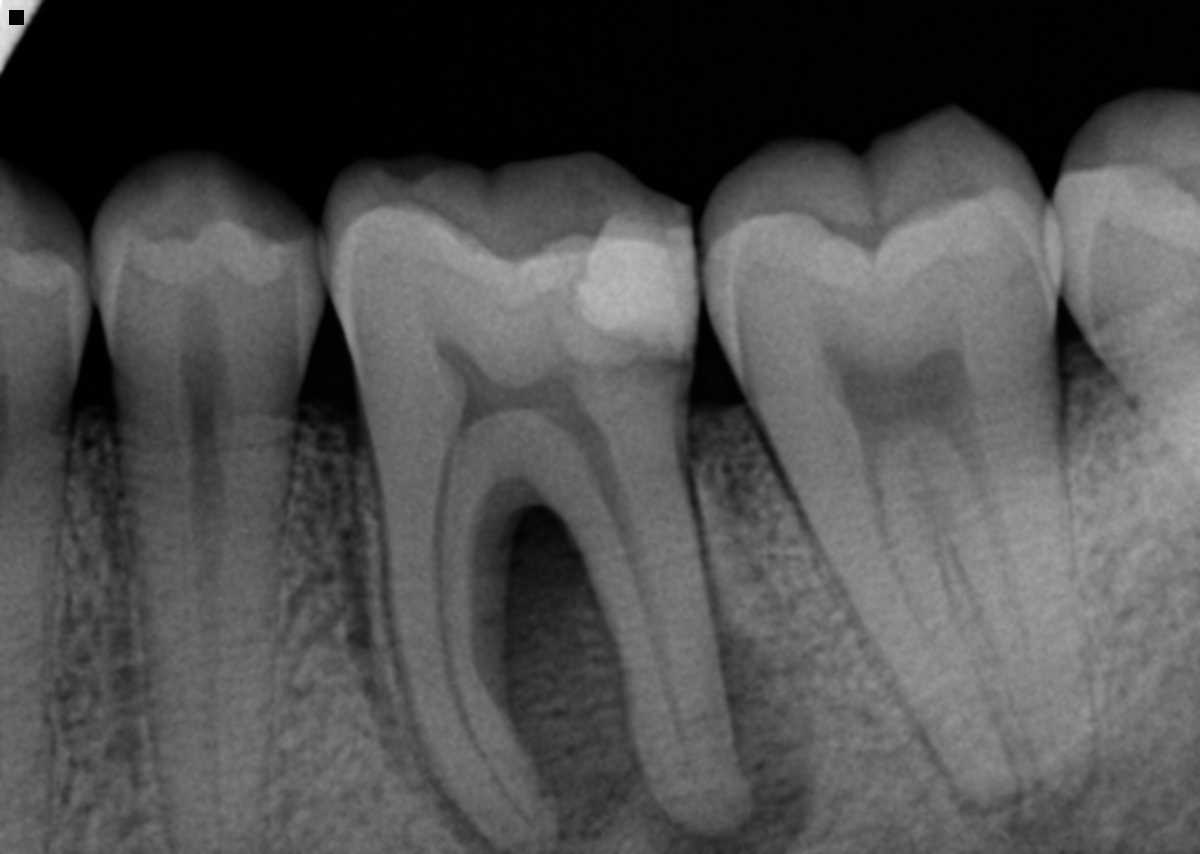Apical Lesion: (459, 573, 635, 854), (657, 624, 827, 854)
Distal Canal: (964, 436, 1052, 765)
Distal Root: (557, 435, 760, 838), (938, 391, 1095, 797)
Main Canal: (193, 434, 228, 853)
Main Root: (125, 430, 297, 854), (0, 408, 71, 854)
Mesial Canal: (429, 475, 544, 835), (862, 441, 973, 721)
Mesial Root: (774, 425, 1019, 806), (382, 460, 567, 854), (1116, 333, 1200, 467)
